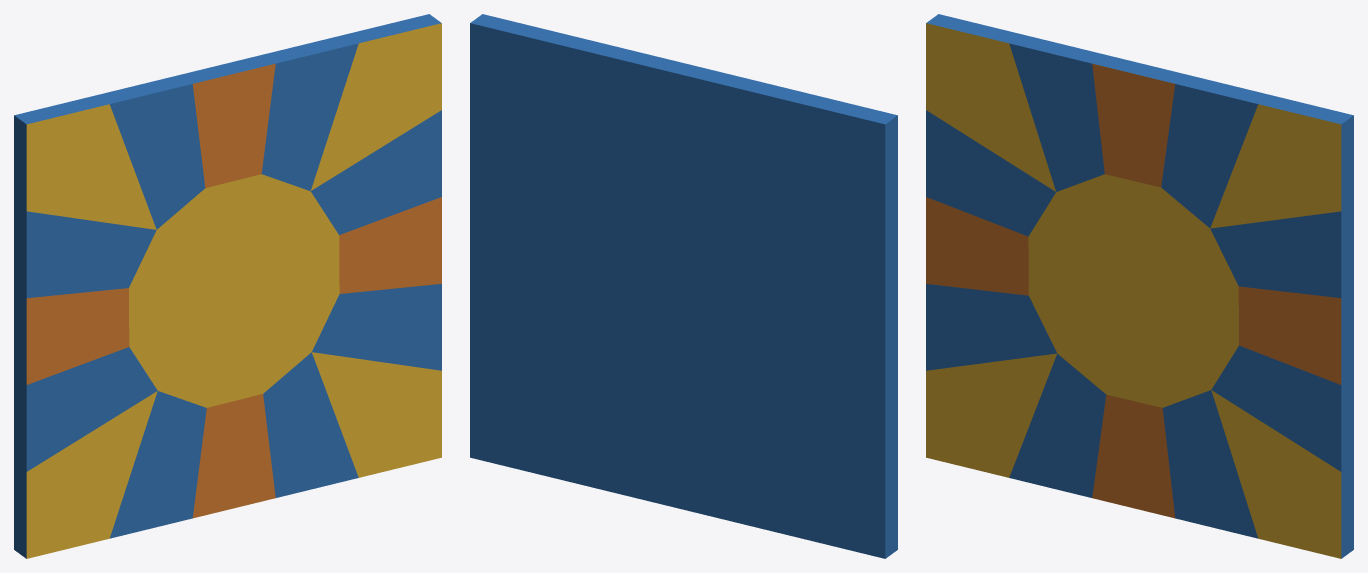
File: poster_1.fbx
3 views of the same model, side by side, from view 1: azimuth 30°, elevation 25°; view 2: azimuth 150°, elevation 25°; view 3: azimuth 330°, elevation 25° (orthographic).
Visible parts, largest first — view 1: poster 1; view 2: poster 1; view 3: poster 1.
Part boxes in pixels (x1,y1,x2,y2): poster 1: (14, 14, 441, 558); poster 1: (470, 14, 897, 558); poster 1: (926, 14, 1353, 558).
Bounding box in the file's own units: 3136 × 3136 × 163.
